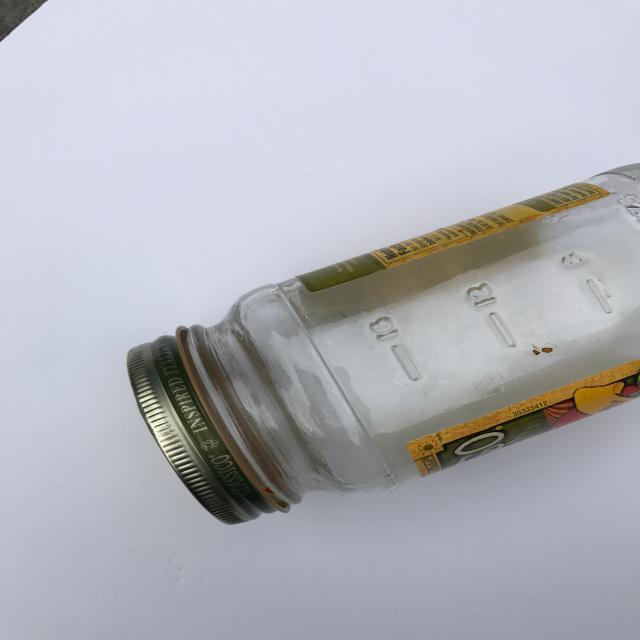glass: (127, 161, 640, 523)
